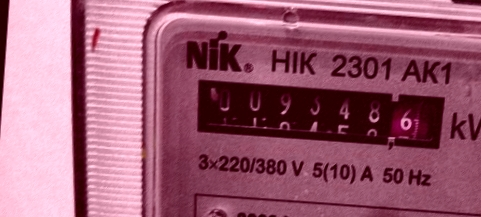0: (215, 86, 233, 113), (247, 86, 262, 112)
3: (307, 91, 323, 117)
4: (334, 91, 354, 122)
6: (396, 103, 415, 133)
8: (366, 96, 383, 125)
9: (277, 91, 293, 119)
screen: (176, 64, 459, 161)
